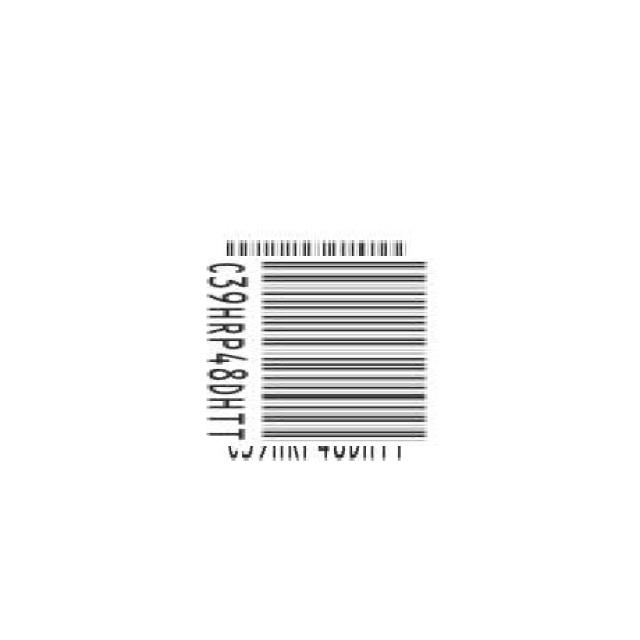Barkod: (207, 242, 425, 460)
